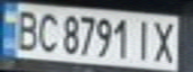1: (109, 16, 133, 60)
7: (75, 12, 96, 56)
8: (57, 11, 81, 55)
9: (93, 15, 115, 58)
B: (9, 7, 42, 52)
C: (33, 9, 60, 54)
I: (130, 16, 157, 61)
X: (148, 17, 178, 64)
